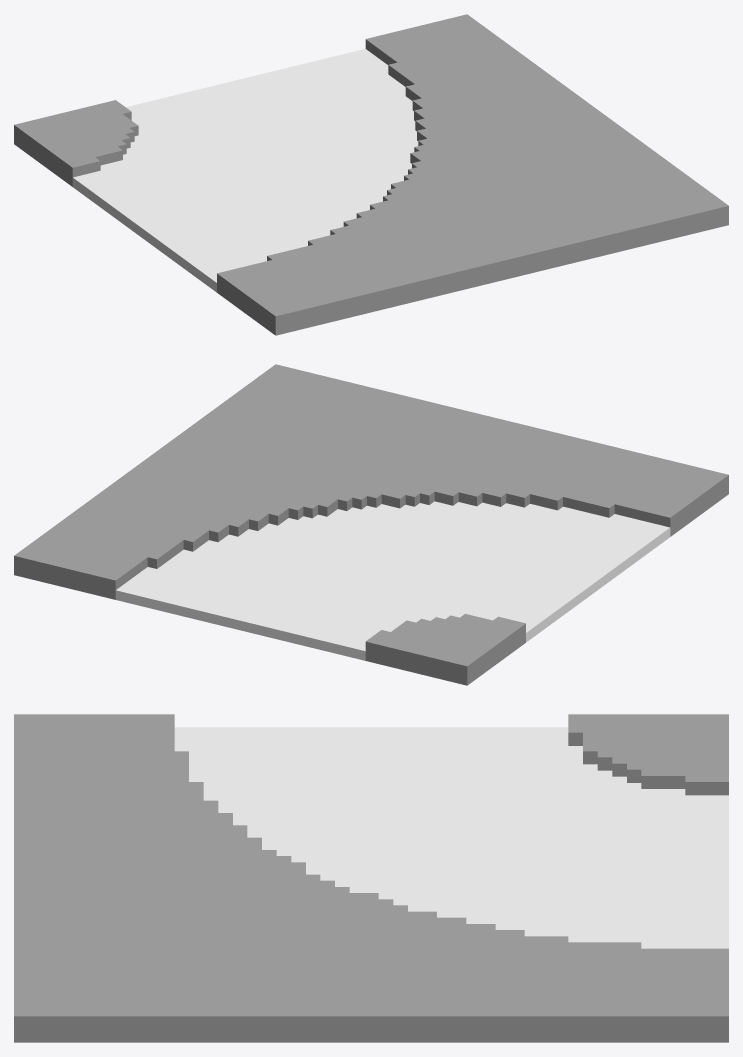
The model's file is road_TL_49.gltf.
3 renders of one model, top to bottom at view 1: azimuth 30°, elevation 25°; view 2: azimuth 150°, elevation 25°; view 3: azimuth 270°, elevation 25°, orthographic. The views are drawn at different scales.
Visible parts, largest first — view 1: stone, tar, ink; view 2: stone, tar, ink; view 3: stone, tar, ink.
Boxes of the visible parts, box(x1,y1,x2,y2) form: stone: box(14, 14, 728, 335); tar: box(78, 51, 416, 288); ink: box(72, 48, 418, 292); stone: box(14, 364, 728, 685); tar: box(125, 505, 664, 658); ink: box(115, 501, 670, 660); stone: box(14, 714, 728, 1042); tar: box(189, 727, 728, 948); ink: box(174, 727, 728, 881).
Bounding box in the file's own units: 49 × 2 × 49.
3 materials, 3 textured.
